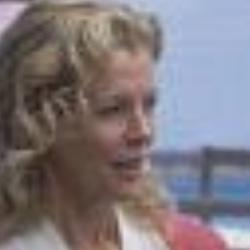face: (6, 6, 169, 219)
